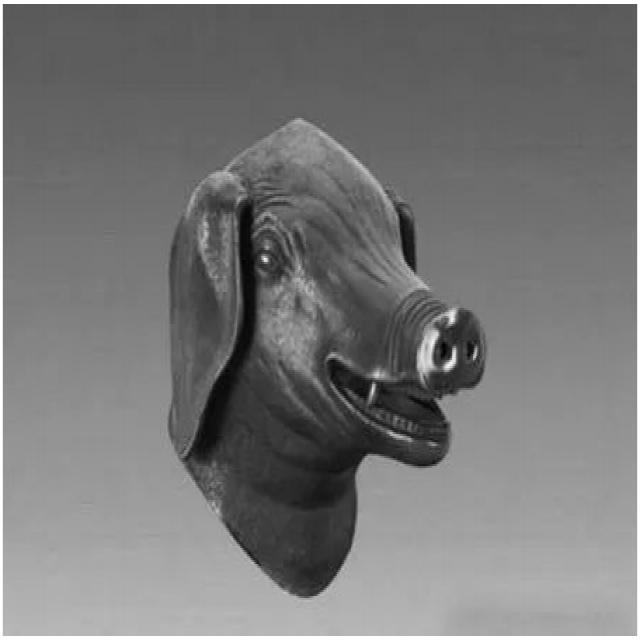recyclable: (166, 117, 486, 597)
